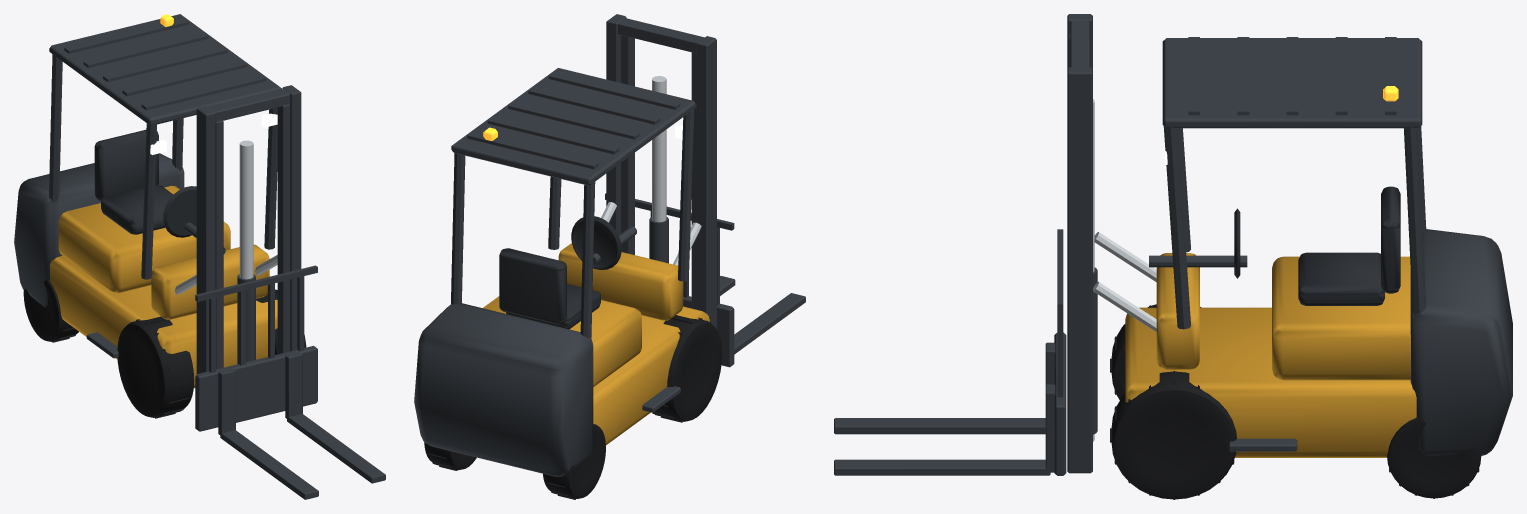
Rendered from forklift.glb.
3 views of the same model, side by side, from view 1: azimuth 30°, elevation 25°; view 2: azimuth 150°, elevation 25°; view 3: azimuth 270°, elevation 25° (orthographic). The views are drawn at different scales.
Parts seen in each view (by area): view 1: forklift_body, forklift_mast, forklift_carriage; view 2: forklift_body, forklift_mast, forklift_carriage; view 3: forklift_body, forklift_mast, forklift_carriage.
Boxes of the visible parts, left/top/right/bottom form: forklift_body: left=14, top=14, right=306, bottom=418; forklift_mast: left=175, top=85, right=301, bottom=374; forklift_carriage: left=195, top=265, right=385, bottom=499; forklift_body: left=414, top=68, right=722, bottom=499; forklift_mast: left=601, top=14, right=716, bottom=329; forklift_carriage: left=605, top=193, right=805, bottom=367; forklift_body: left=1110, top=37, right=1512, bottom=499; forklift_mast: left=1067, top=14, right=1156, bottom=473; forklift_carriage: left=834, top=229, right=1066, bottom=475.
Bounding box in the file's own units: 1.16 × 2.33 × 3.45.
1 material, 1 textured.
